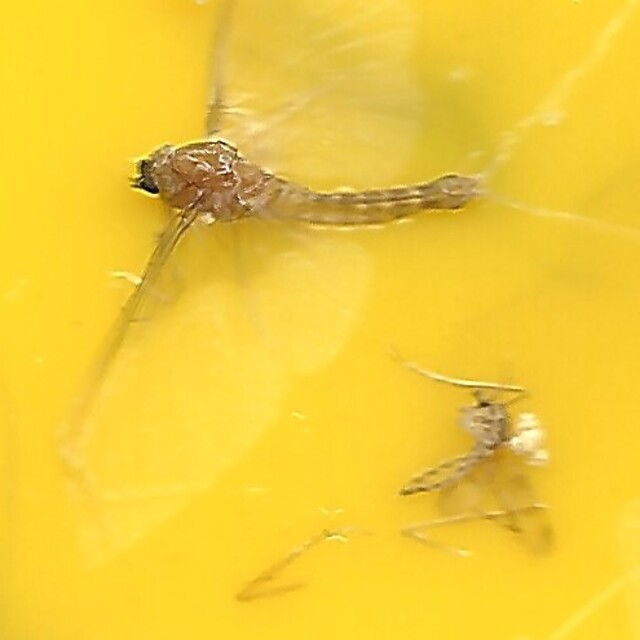Ephemeroptera: (129, 136, 481, 231)
Nematocera: (396, 395, 511, 504)
